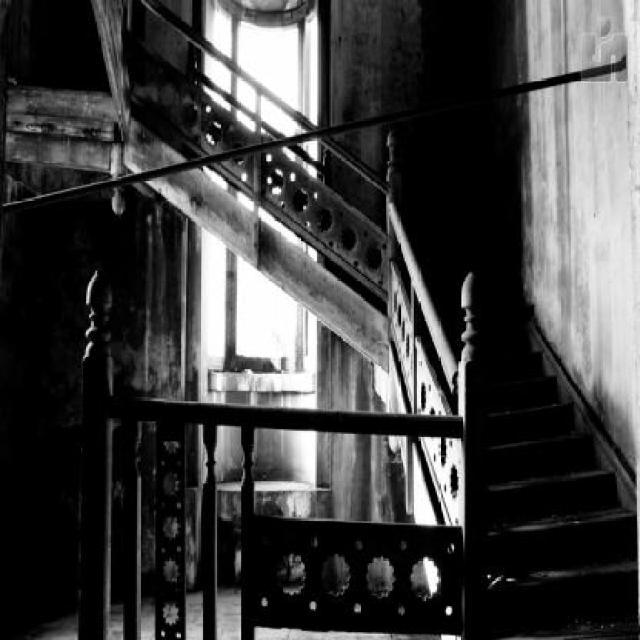stair: (480, 287, 640, 638)
